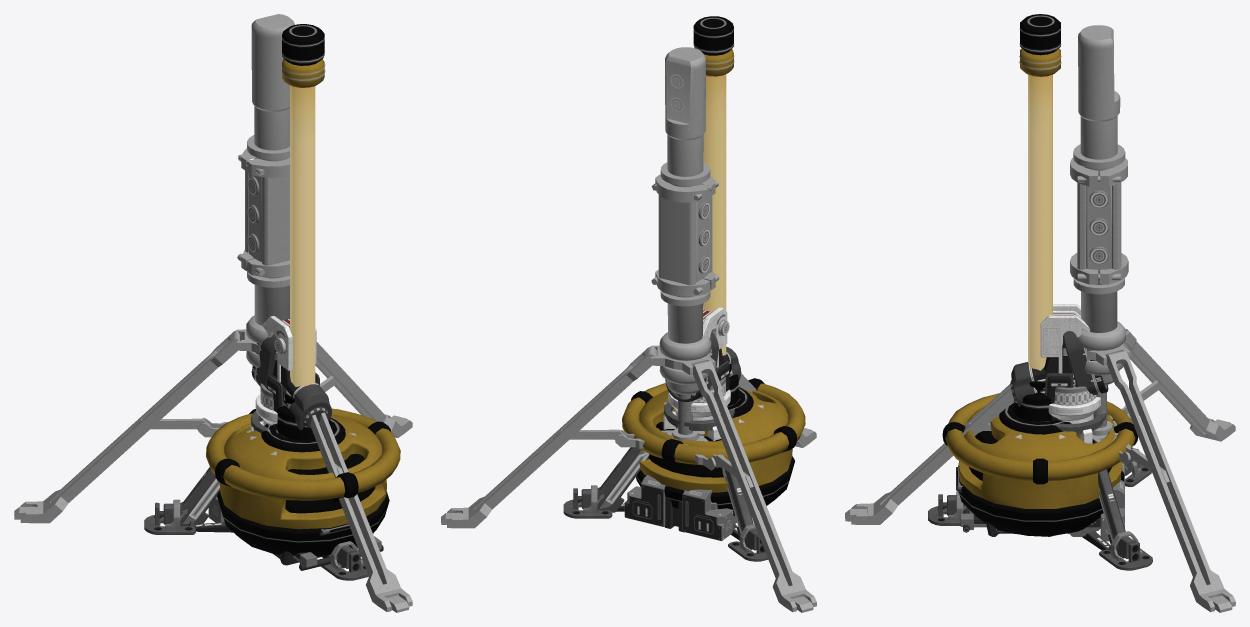
File: licht.glb
3 views of the same model, side by side, from view 1: azimuth 30°, elevation 25°; view 2: azimuth 150°, elevation 25°; view 3: azimuth 270°, elevation 25° (orthographic). The views are drawn at different scales.
Parts seen in each view (by area): view 1: prop_licht_light_portable_tripod_1_base_a, prop_licht_light_work_light_2_a, prop_licht_light_work_light_1_a, prop_licht_lamp_slaver_1_tripod_a, prop_licht_light_tripod_1_a, prop_licht_light_work_light_3_a; view 2: prop_licht_light_portable_tripod_1_base_a, prop_licht_light_work_light_2_a, prop_licht_light_work_light_1_a, prop_licht_lamp_slaver_1_tripod_a, prop_licht_light_work_light_3_a, prop_licht_light_tripod_1_a; view 3: prop_licht_light_portable_tripod_1_base_a, prop_licht_light_work_light_2_a, prop_licht_light_work_light_1_a, prop_licht_lamp_slaver_1_tripod_a, prop_licht_light_tripod_1_a, prop_licht_light_work_light_3_a.
Part boxes in pixels (bbox=[...]): prop_licht_light_portable_tripod_1_base_a: bbox=[14, 14, 412, 612]; prop_licht_light_work_light_2_a: bbox=[217, 59, 389, 556]; prop_licht_light_work_light_1_a: bbox=[206, 24, 400, 513]; prop_licht_lamp_slaver_1_tripod_a: bbox=[144, 316, 368, 580]; prop_licht_light_tripod_1_a: bbox=[188, 334, 342, 567]; prop_licht_light_work_light_3_a: bbox=[208, 497, 383, 570]; prop_licht_light_portable_tripod_1_base_a: bbox=[441, 47, 816, 612]; prop_licht_light_work_light_2_a: bbox=[636, 49, 794, 515]; prop_licht_light_work_light_1_a: bbox=[622, 16, 805, 477]; prop_licht_lamp_slaver_1_tripod_a: bbox=[563, 307, 776, 561]; prop_licht_light_work_light_3_a: bbox=[624, 475, 736, 541]; prop_licht_light_tripod_1_a: bbox=[616, 331, 741, 540]; prop_licht_light_portable_tripod_1_base_a: bbox=[845, 25, 1235, 612]; prop_licht_light_work_light_2_a: bbox=[957, 48, 1124, 536]; prop_licht_light_work_light_1_a: bbox=[942, 14, 1137, 484]; prop_licht_lamp_slaver_1_tripod_a: bbox=[928, 304, 1152, 570]; prop_licht_light_tripod_1_a: bbox=[1010, 331, 1117, 551]; prop_licht_light_work_light_3_a: bbox=[956, 462, 1124, 541].
Size of the model in its own units: 1.25 by 1.53 by 1.09.
Materials: 26 (22 with a texture image).
